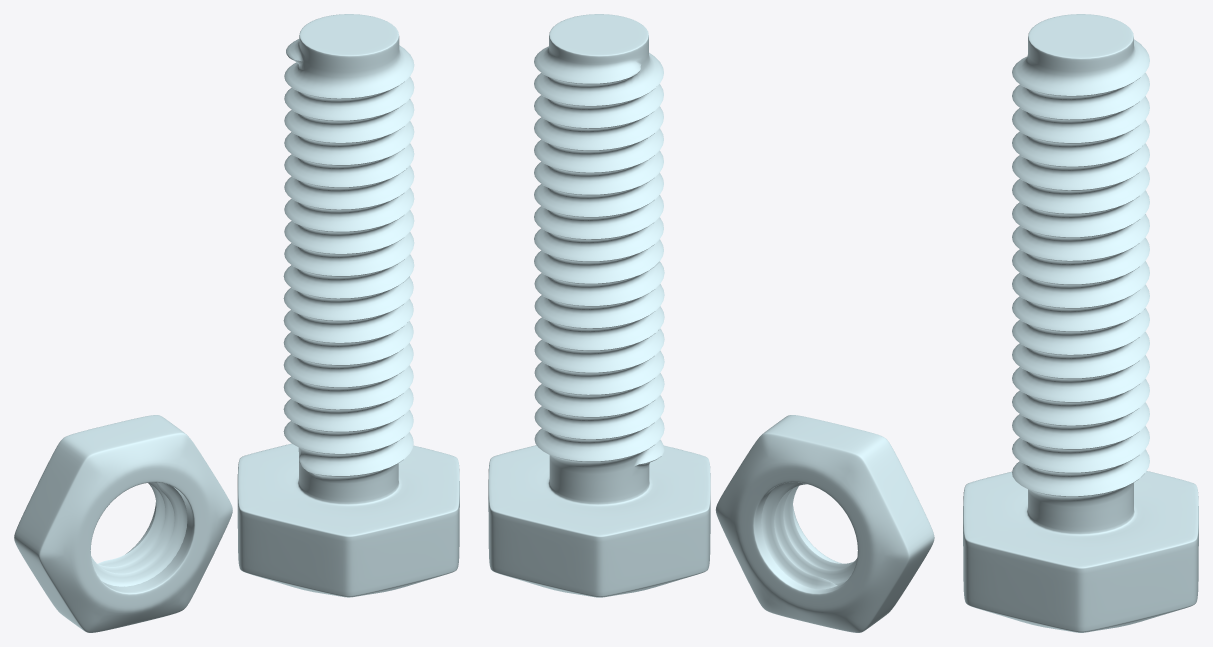
Rendered from Zinc Plating.glb.
3 renders of one model, left to right at view 1: azimuth 30°, elevation 25°; view 2: azimuth 150°, elevation 25°; view 3: azimuth 270°, elevation 25°, orthographic. The views are drawn at different scales.
Visible parts, largest first — view 1: Hex Screw_nut_; view 2: Hex Screw_nut_; view 3: Hex Screw_nut_.
Part boxes in pixels (bbox=[...]): Hex Screw_nut_: bbox=[14, 14, 459, 632]; Hex Screw_nut_: bbox=[488, 14, 934, 632]; Hex Screw_nut_: bbox=[963, 14, 1198, 632].
Bounding box in the file's own units: 0.0197 × 0.0229 × 0.00879.
1 material, 1 textured.
